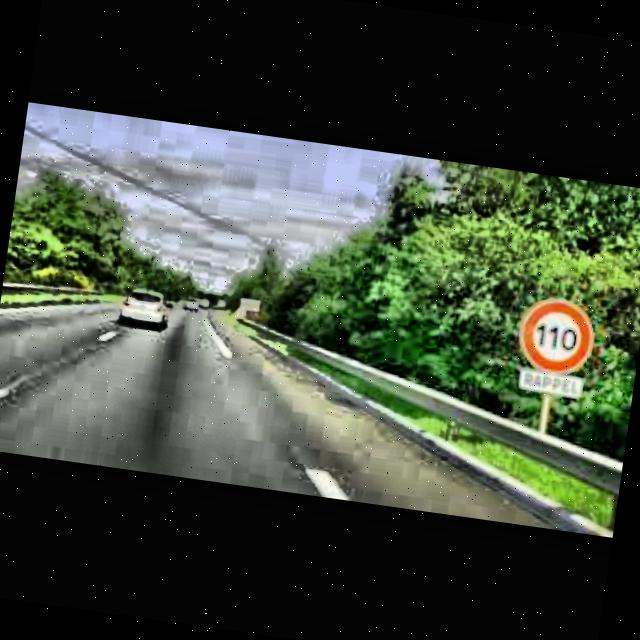speed_110: (516, 294, 598, 378)
